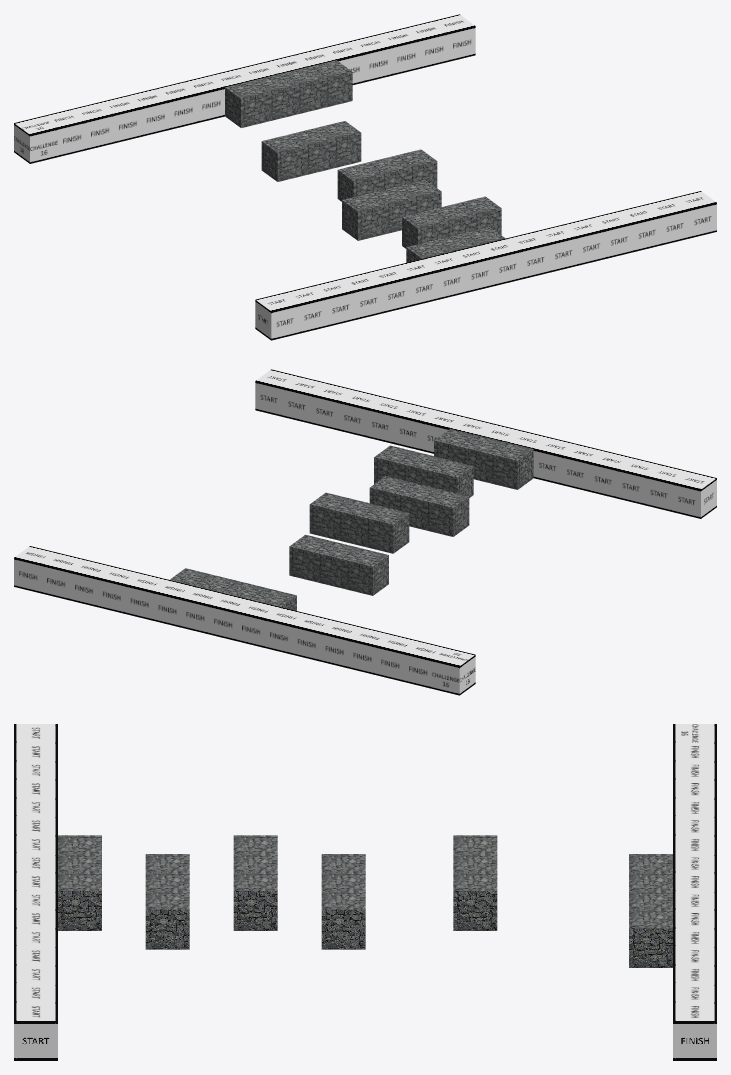
File: challenge16_01.gltf
3 renders of one model, top to bottom at view 1: azimuth 30°, elevation 25°; view 2: azimuth 150°, elevation 25°; view 3: azimuth 270°, elevation 25°, orthographic. The views are drawn at different scales.
Parts seen in each view (by area): view 1: map; view 2: map; view 3: map.
Part boxes in pixels (x1=…): map: x1=14, y1=14, x2=716, y2=340; map: x1=14, y1=369, x2=716, y2=695; map: x1=14, y1=724, x2=716, y2=1060.
Size of the model in its own units: 32 by 2 by 32.
4 materials, 4 textured.
